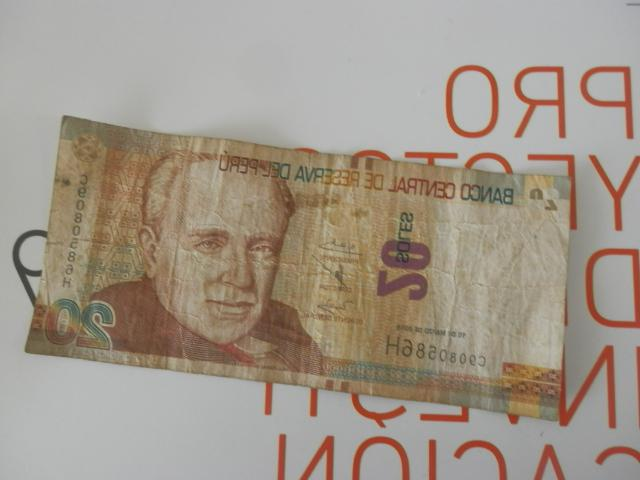B20: (26, 116, 569, 421)
